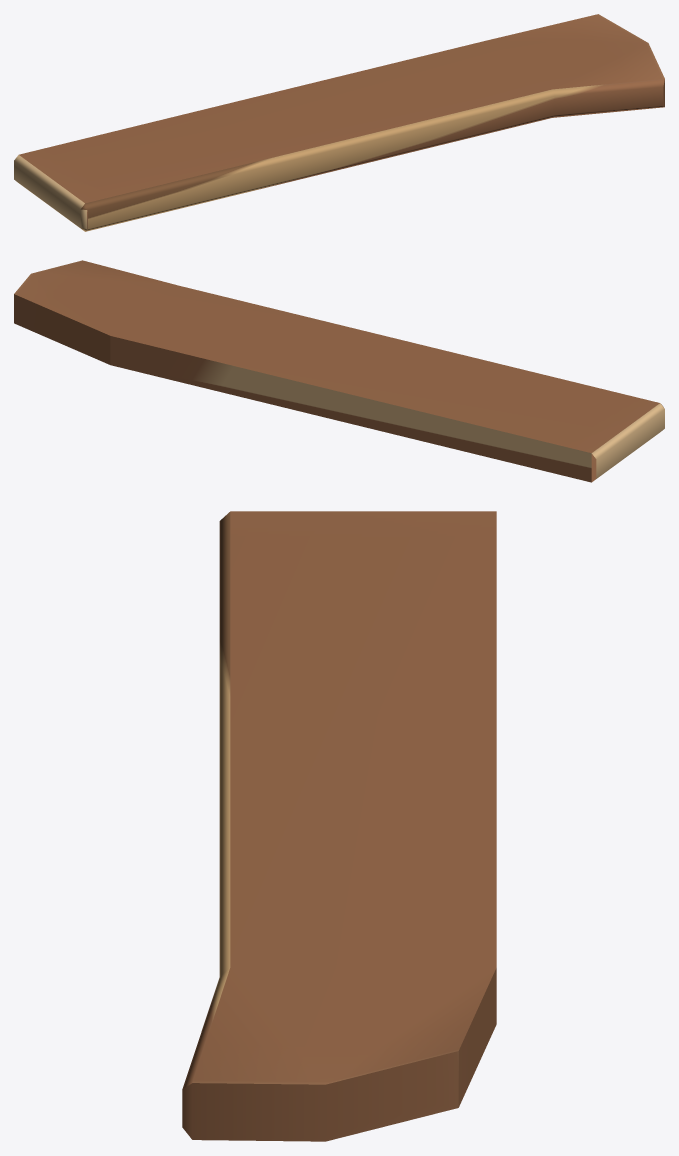
Rendered from DBK_WinBig_Trim_B_End.fbx.
3 views of the same model, one above another, from view 1: azimuth 30°, elevation 25°; view 2: azimuth 150°, elevation 25°; view 3: azimuth 270°, elevation 25° (orthographic). The views are drawn at different scales.
Visible parts, largest first — view 1: DBK_WinBig_Trim_B_End; view 2: DBK_WinBig_Trim_B_End; view 3: DBK_WinBig_Trim_B_End.
Boxes of the visible parts, x1,y1,x2,y2 form: DBK_WinBig_Trim_B_End: (14,14,664,231); DBK_WinBig_Trim_B_End: (14,260,664,482); DBK_WinBig_Trim_B_End: (182,511,496,1141).
Size of the model in its own units: 116 by 8.34 by 26.69.
